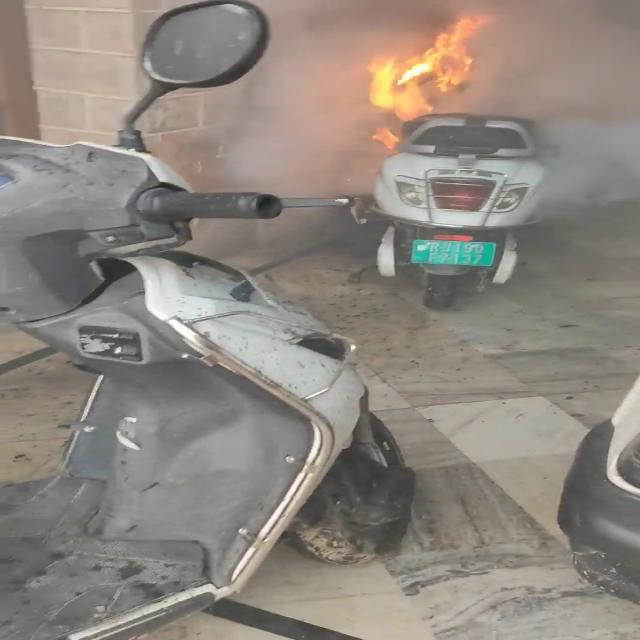Fire: (363, 13, 489, 127)
Smoke: (148, 0, 640, 136)
